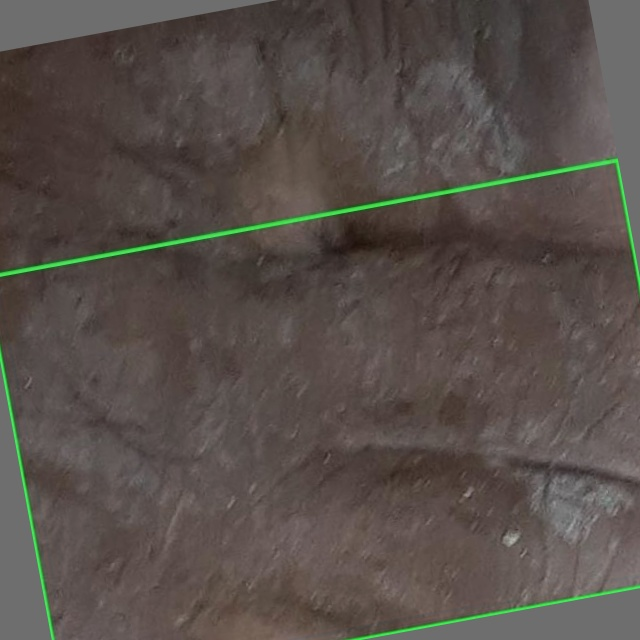Eczema: (0, 160, 639, 639)
